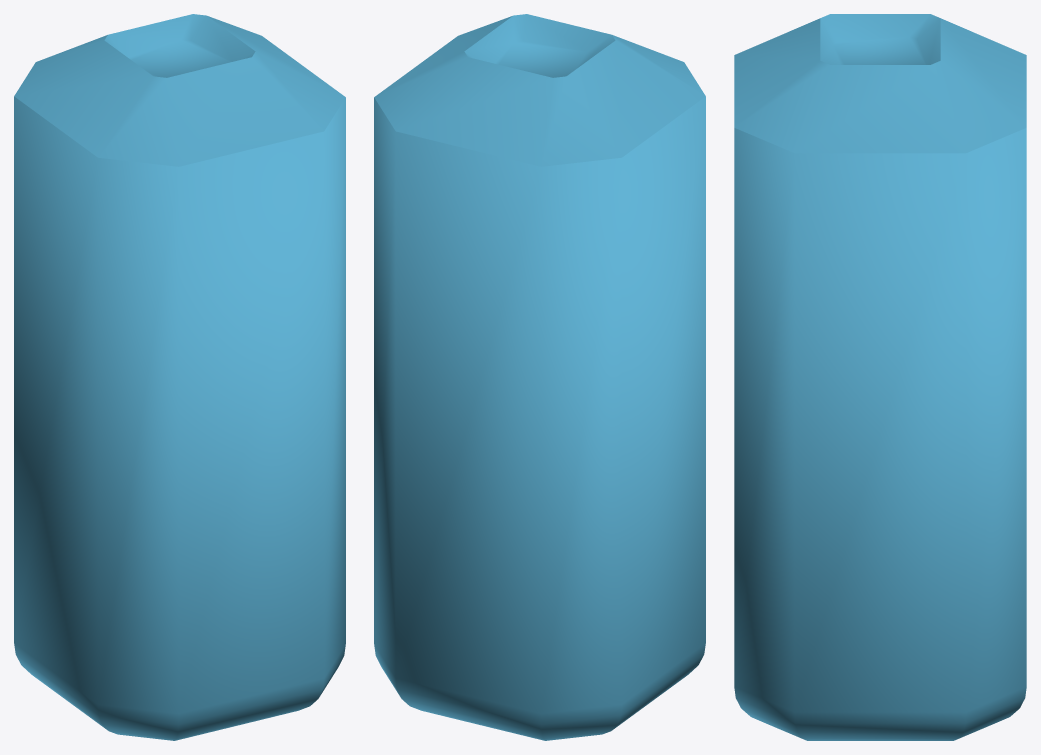
Rendered from tool_0.dae.
3 views of the same model, side by side, from view 1: azimuth 30°, elevation 25°; view 2: azimuth 150°, elevation 25°; view 3: azimuth 270°, elevation 25° (orthographic). The views are drawn at different scales.
Visible parts, largest first — view 1: Cube; view 2: Cube; view 3: Cube.
Boxes of the visible parts, x1,y1,x2,y2 form: Cube: (14,14,345,740); Cube: (374,14,705,740); Cube: (734,14,1026,740).
Bounding box in the file's own units: 0.08 × 0.08 × 0.2.
